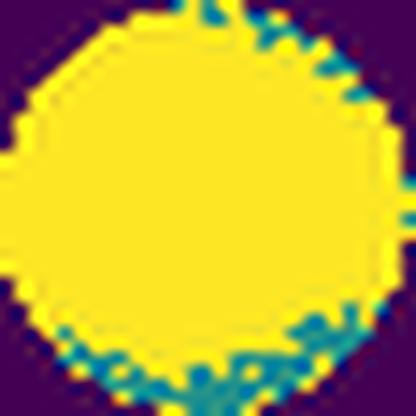Near-full: (0, 0, 416, 359)
